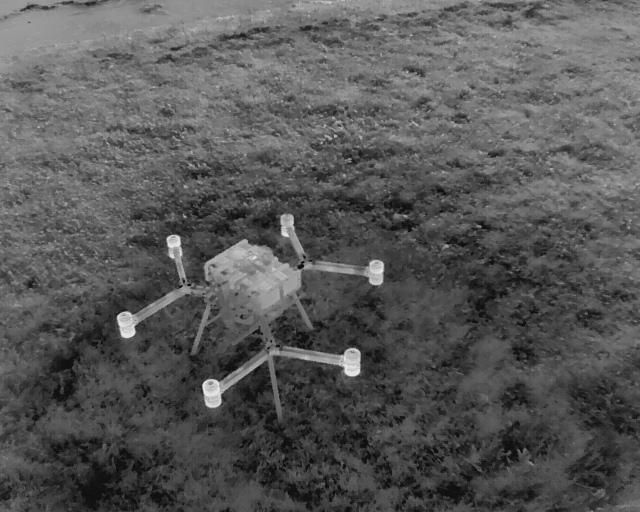drone: (70, 193, 429, 455)
